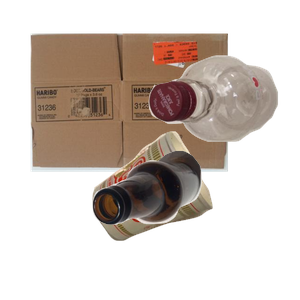cardboard: (28, 31, 249, 195)
glass: (90, 148, 300, 300)
plastic: (146, 53, 300, 187)
trash: (90, 129, 295, 300)
